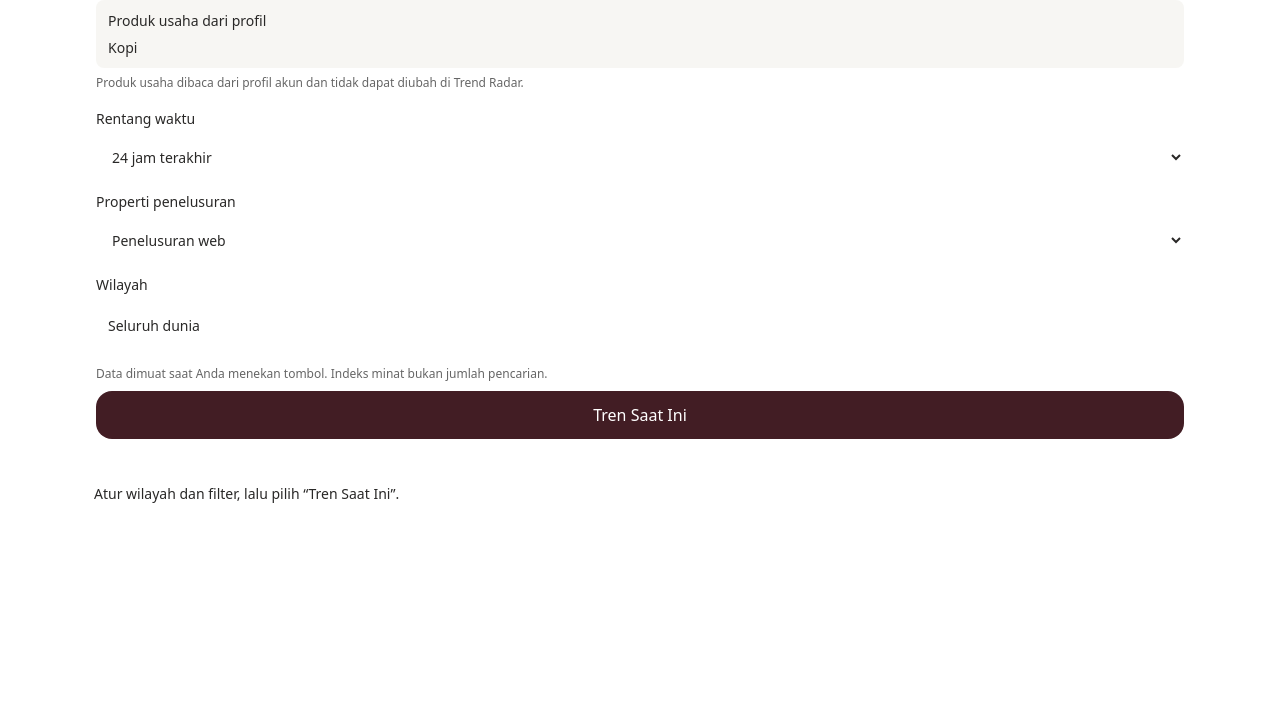
Test: TrendRadarPanel › renders available time series even when regional data fails
Replace the text in the dropdown labelled "Wilayah" with "Indonesia": (640, 325) [96, 301, 1184, 349]
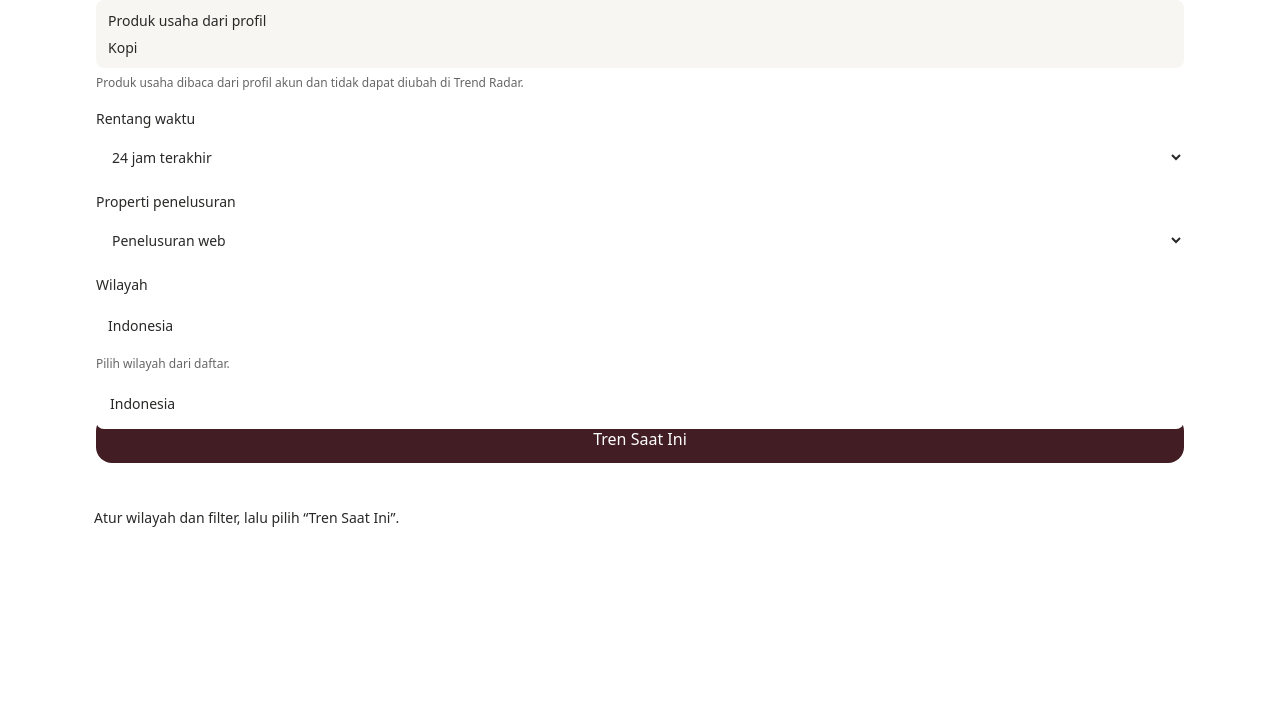
Click the option "Indonesia": (143, 403) [110, 394, 175, 412]
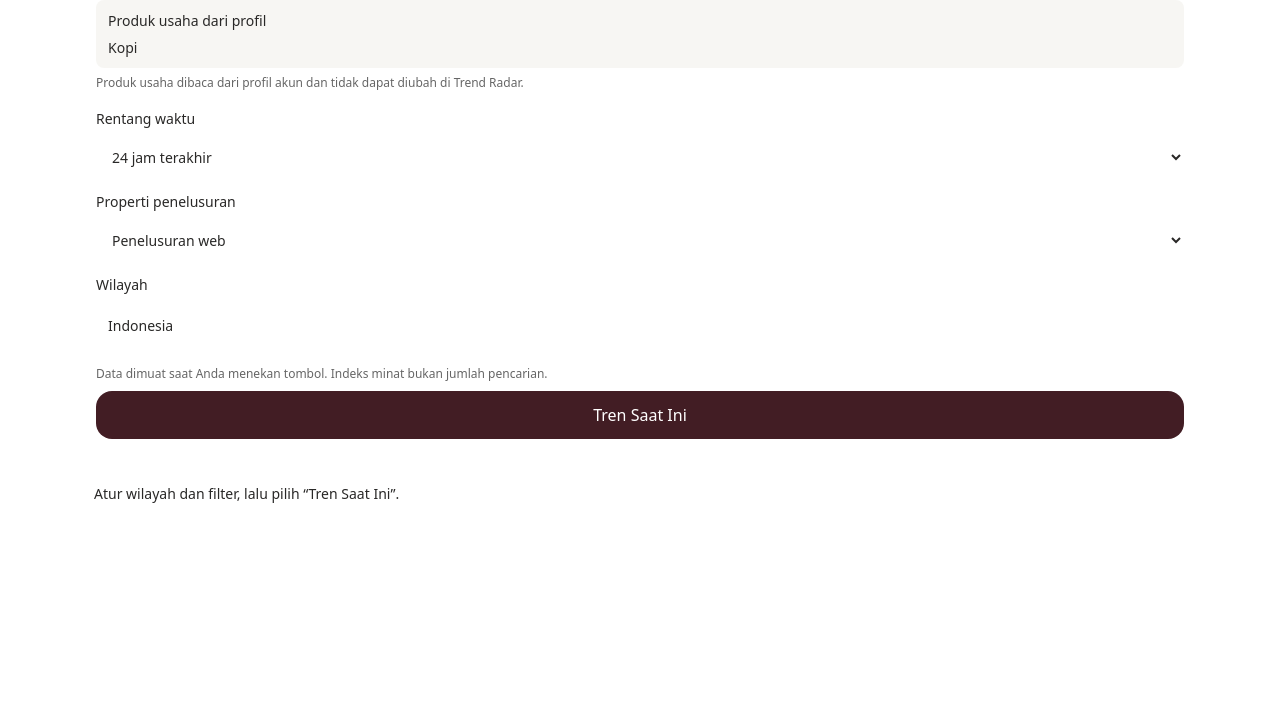
Click the button "Tren Saat Ini": (640, 415) [96, 391, 1184, 439]
(page scrolled)
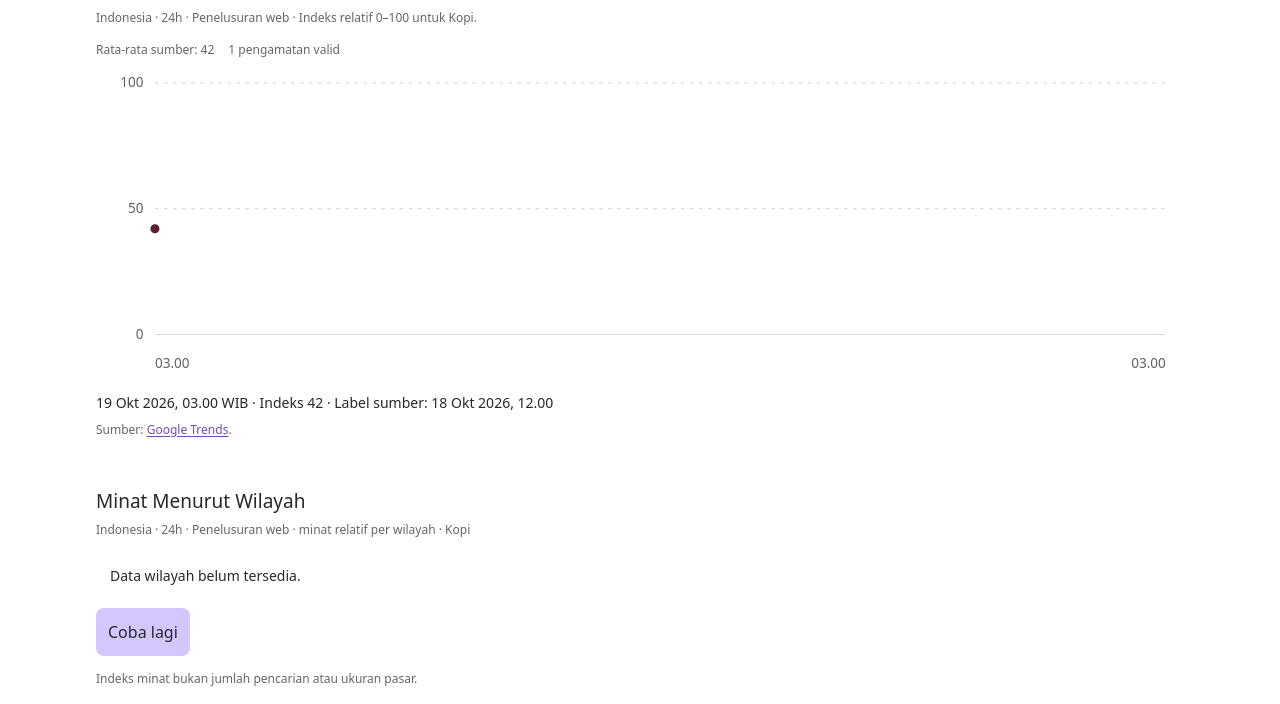
Check: the picture named "Grafik minat penelusuran untuk Kopi" is shown, box [96, 66, 1184, 384]
Check: the text "Data wilayah belum tersedia." is shown, box [96, 553, 315, 598]
